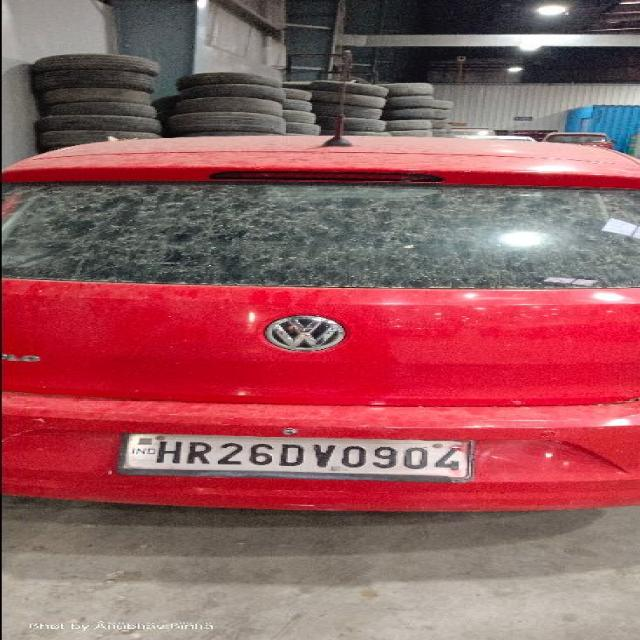license_plate: (115, 432, 474, 482)
